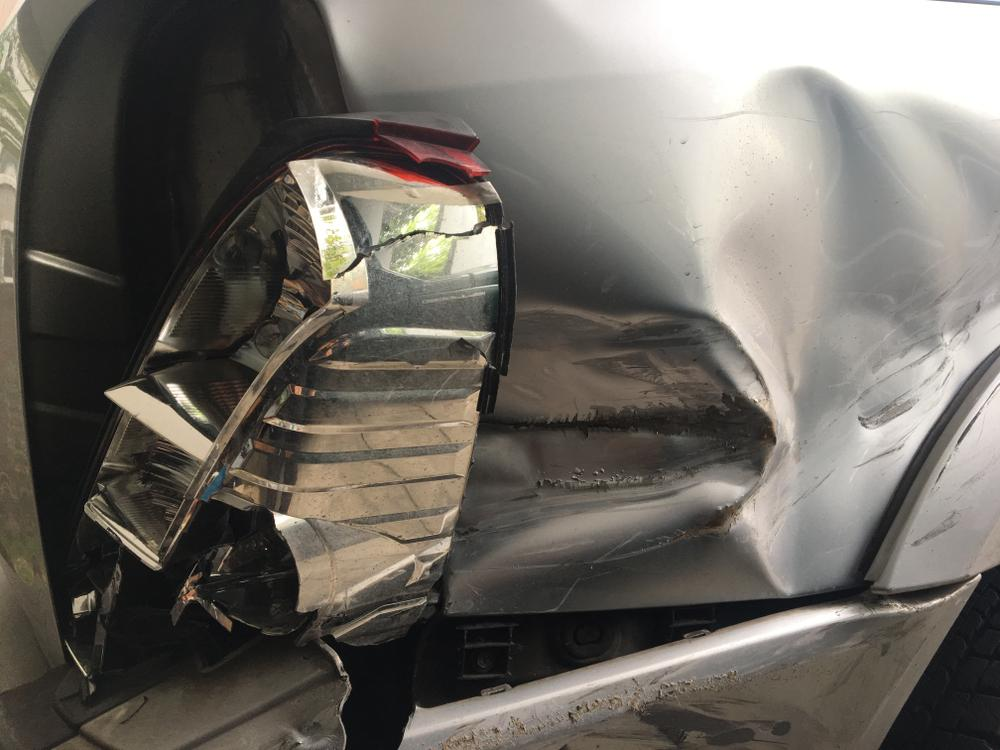crack: (331, 202, 505, 278)
dent: (450, 65, 1000, 596)
scratch: (598, 660, 830, 750)
